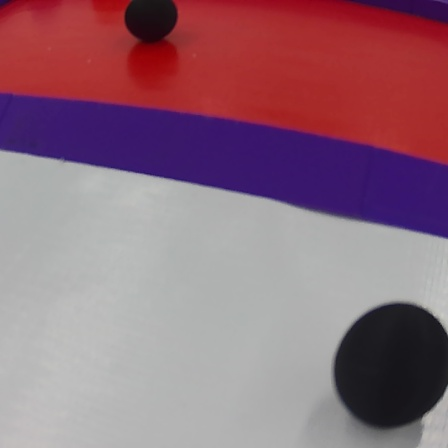black: (324, 300, 448, 435), (118, 0, 181, 44)
red_aim: (0, 0, 447, 244)
